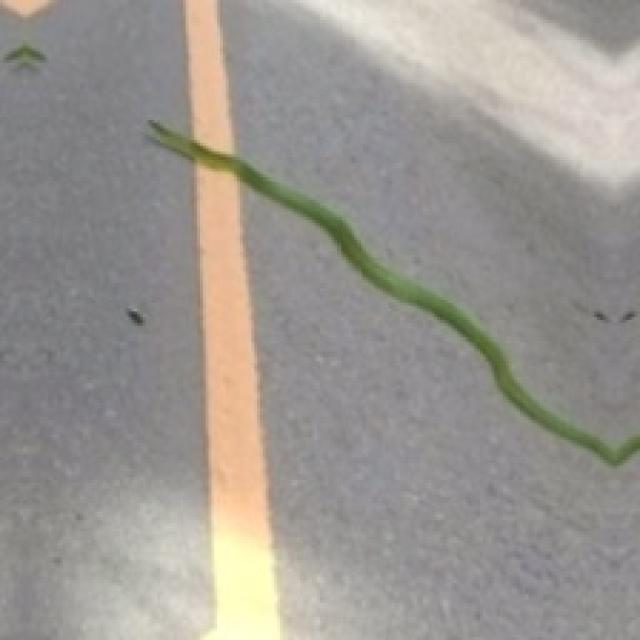red-tailed green ratsnake: (149, 120, 637, 463)
